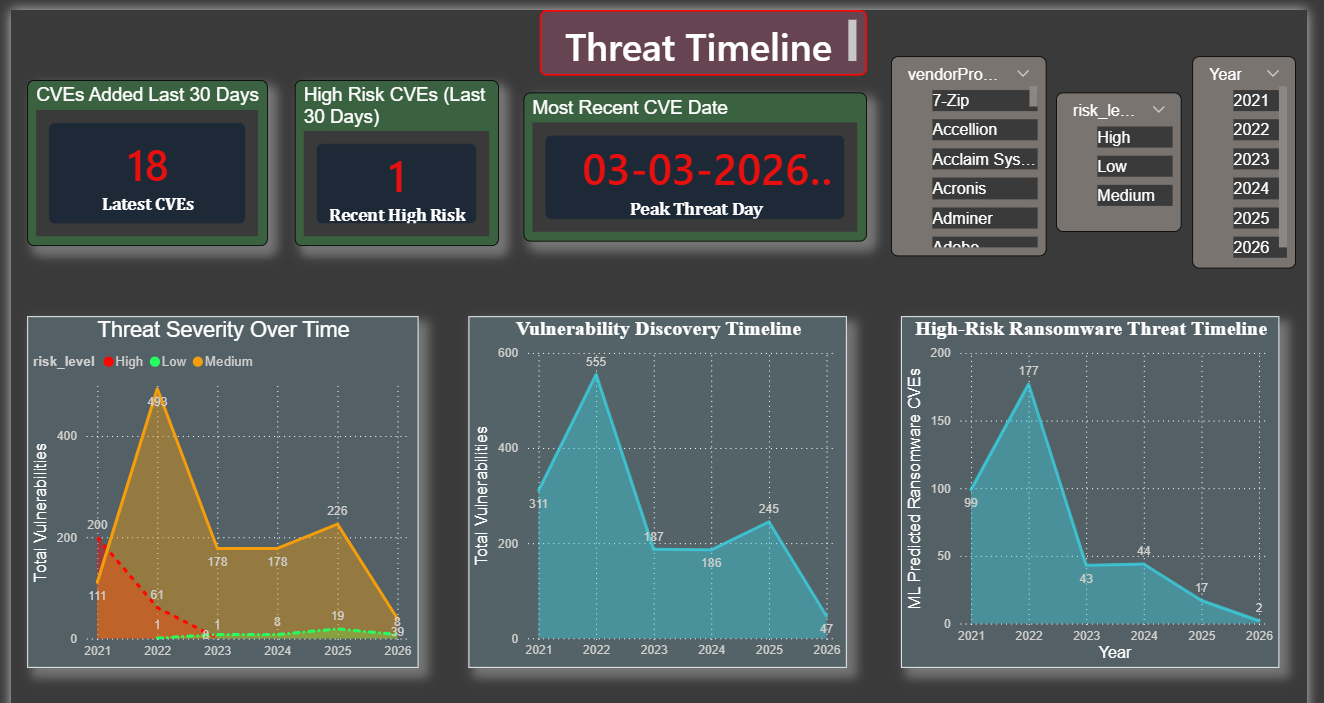

What the dashboard file says about the page in this screenshot:
{"tool":"powerbi","page":{"name":"Threat Timeline","canvas":[1280,720],"ordinal":3},"visuals":[{"type":"lineChart","title":"Vulnerability Discovery Timeline","fields":{"Category":["powerbi_main.dateAdded.Variation.Date Hierarchy.Year"],"Y":["powerbi_main.Total Vulnerabilities"]},"box":[452.4,302.8,374,347.5],"z":0},{"type":"lineChart","title":"High-Risk Ransomware Threat Timeline","fields":{"Category":["powerbi_main.dateAdded.Variation.Date Hierarchy.Year"],"Y":["powerbi_main.ML Predicted Ransomware CVEs"]},"box":[879.5,302.8,374,347.5],"z":1000},{"type":"areaChart","title":"Threat Severity Over Time","fields":{"Category":["powerbi_main.dateAdded.Variation.Date Hierarchy.Year"],"Y":["powerbi_main.Total Vulnerabilities"],"Series":["powerbi_main.risk_level"]},"box":[15.7,302.8,386.1,347.5],"z":2000},{"type":"cardVisual","title":"CVEs Added Last 30 Days","fields":{"Data":["powerbi_main.Latest CVEs"]},"box":[15.7,68.8,237.7,164.1],"z":3000},{"type":"cardVisual","title":"High Risk CVEs (Last 30 Days)","fields":{"Data":["powerbi_main.Recent High Risk"]},"box":[279.9,68.8,201.5,164.1],"z":4000},{"type":"cardVisual","title":"Most Recent CVE Date","fields":{"Data":["powerbi_main.Peak Threat Day"]},"box":[506.7,82,339,147.2],"z":5000},{"type":"slicer","fields":{"Values":["powerbi_main.vendorProject"]},"box":[868.6,45.8,153.2,197.9],"z":6000},{"type":"slicer","fields":{"Values":["powerbi_main.risk_level"]},"box":[1032.7,82,124.3,137.5],"z":7000},{"type":"slicer","fields":{"Values":["powerbi_main.dateAdded.Variation.Date Hierarchy.Year"]},"box":[1166.6,45.8,102.5,209.9],"z":8000},{"type":"textbox","box":[522.4,0,323.3,65.1],"z":9000}]}

Visuals, with their boxes on the page's 1280x720 design canvas (x1, y1, x2, y2). These are canvas units, not pixel positions in the 1324x703 screenshot, which may show the page scaled, cropped or inside an application window:
"Vulnerability Discovery Timeline" lineChart: (452,303,826,650)
"High-Risk Ransomware Threat Timeline" lineChart: (880,303,1254,650)
"Threat Severity Over Time" areaChart: (16,303,402,650)
"CVEs Added Last 30 Days" cardVisual: (16,69,253,233)
"High Risk CVEs (Last 30 Days)" cardVisual: (280,69,481,233)
"Most Recent CVE Date" cardVisual: (507,82,846,229)
slicer - powerbi_main.vendorProject: (869,46,1022,244)
slicer - powerbi_main.risk_level: (1033,82,1157,220)
slicer - powerbi_main.dateAdded.Variation.Date Hierarchy.Year: (1167,46,1269,256)
textbox: (522,0,846,65)
